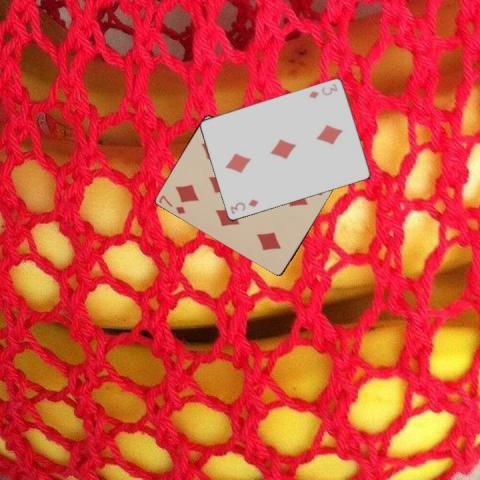3d: (306, 81, 339, 100), (227, 196, 260, 215)
7d: (156, 192, 187, 215)
